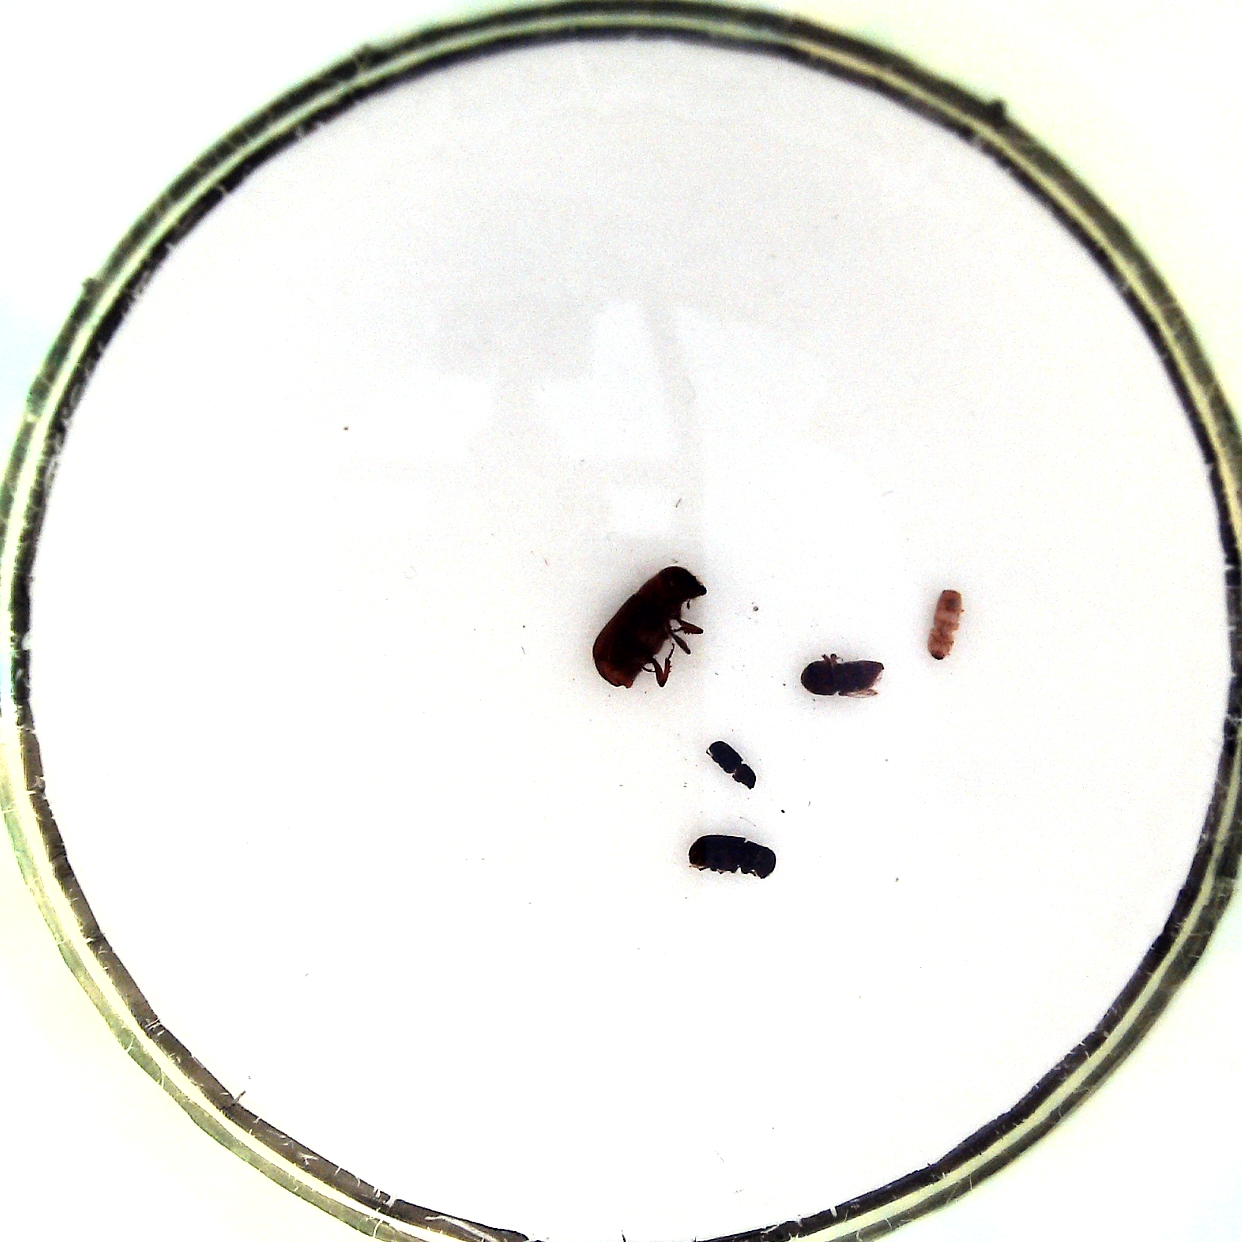Leconte: (588, 562, 709, 693)
Linnaeus: (796, 648, 893, 703)
acuminatus: (926, 583, 968, 662)
armandi: (684, 830, 780, 883)
coleoptera: (704, 732, 762, 794)
